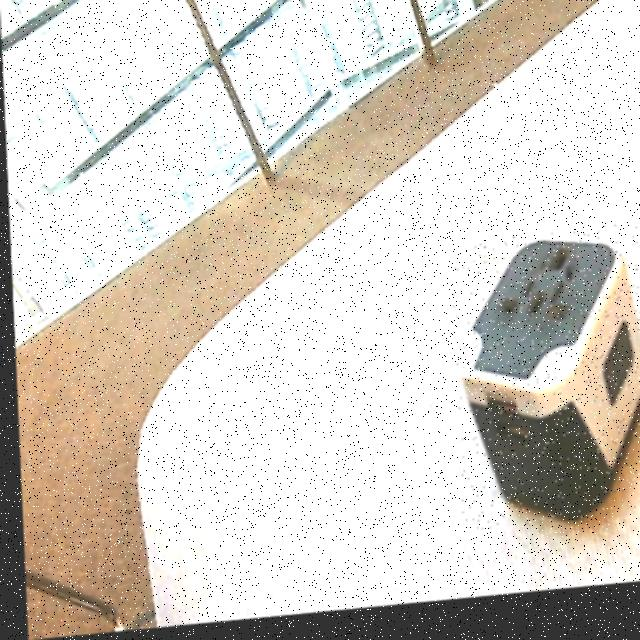adapter: (448, 235, 640, 540)
